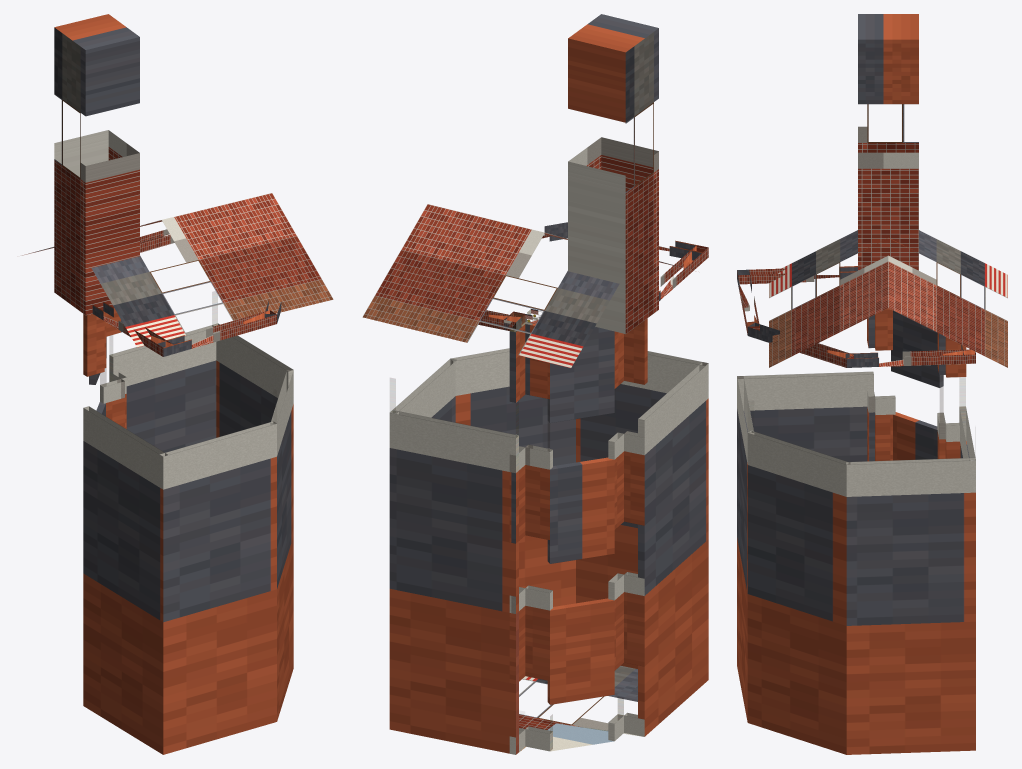
The picture shows the model from 3 angles, left to right: view 1: azimuth 30°, elevation 25°; view 2: azimuth 150°, elevation 25°; view 3: azimuth 270°, elevation 25°; orthographic projection. The views are drawn at different scales.
Parts seen in each view (by area): view 1: 601806591__wall_6_xb, 601806591__wall_5_xb, 601806591__chimney_0_xb, 601806591_roof_-1_xb, 601806591__wall_9_xb, 601806591__wall_8_xb, 601806591__wall_7_xb, 601806591__cornice_6, 601806591__wall_4_xb, 601806591__wall_1_xb, 601806591__cornice_5; view 2: 601806591__wall_9_xb, 601806591__chimney_0_xb, 601806591__wall_5_xb, 601806591_roof_1_xb, 601806591__wall_2_xb, 601806591__wall_7_xb, 601806591__wall_6_xb, 601806591__wall_1_xb, 601806591__wall_4_xb, 601806591__wall_0_xb, 601806591__wall_3_xb, 601806591__base (+3 smaller); view 3: 601806591__wall_8_xb, 601806591__wall_7_xb, 601806591__chimney_0_xb, 601806591__wall_5_xb, 601806591_roof_1_xb, 601806591_roof_-1_xb, 601806591__wall_2_xb, 601806591__wall_6_xb, 601806591__wall_3_xb, 601806591__cornice_8, 601806591__wall_0_xb, 601806591__cornice_7 (+5 smaller).
Boxes of the visible parts, box(x1,y1,x2,y2) form: 601806591__wall_6_xb: box(160, 421, 276, 754); 601806591__wall_5_xb: box(83, 406, 167, 754); 601806591__chimney_0_xb: box(54, 14, 139, 315); 601806591_roof_-1_xb: box(91, 193, 333, 347); 601806591__wall_9_xb: box(109, 323, 219, 452); 601806591__wall_8_xb: box(212, 323, 293, 437); 601806591__wall_7_xb: box(270, 369, 293, 721); 601806591__cornice_6: box(156, 310, 276, 356); 601806591__wall_4_xb: box(83, 311, 104, 376); 601806591__wall_1_xb: box(100, 308, 124, 427); 601806591__cornice_5: box(92, 302, 172, 356); 601806591__wall_9_xb: box(389, 410, 518, 754); 601806591__chimney_0_xb: box(568, 14, 658, 333); 601806591__wall_5_xb: box(638, 362, 708, 736); 601806591_roof_1_xb: box(362, 204, 619, 367); 601806591__wall_2_xb: box(547, 326, 614, 704); 601806591__wall_7_xb: box(450, 348, 575, 606); 601806591__wall_6_xb: box(576, 351, 704, 668); 601806591__wall_1_xb: box(525, 321, 552, 751); 601806591__wall_4_xb: box(624, 318, 647, 736); 601806591__wall_0_xb: box(509, 323, 525, 754); 601806591__wall_3_xb: box(608, 331, 623, 741); 601806591__base: box(518, 665, 641, 752); 601806591__wall_8_xb: box(846, 458, 975, 754); 601806591__wall_7_xb: box(747, 431, 850, 754); 601806591__chimney_0_xb: box(858, 14, 918, 270); 601806591__wall_5_xb: box(737, 371, 873, 461); 601806591_roof_1_xb: box(888, 230, 1007, 367); 601806591_roof_-1_xb: box(769, 230, 888, 367); 601806591__wall_2_xb: box(891, 310, 943, 460); 601806591__wall_6_xb: box(737, 376, 754, 721); 601806591__wall_3_xb: box(875, 308, 895, 460); 601806591__cornice_8: box(845, 349, 975, 367); 601806591__wall_0_xb: box(945, 337, 966, 458); 601806591__cornice_7: box(747, 322, 853, 367).
Bounding box in the file's own units: 0.5587 × 1.75 × 0.666.
1 material, 1 textured.
